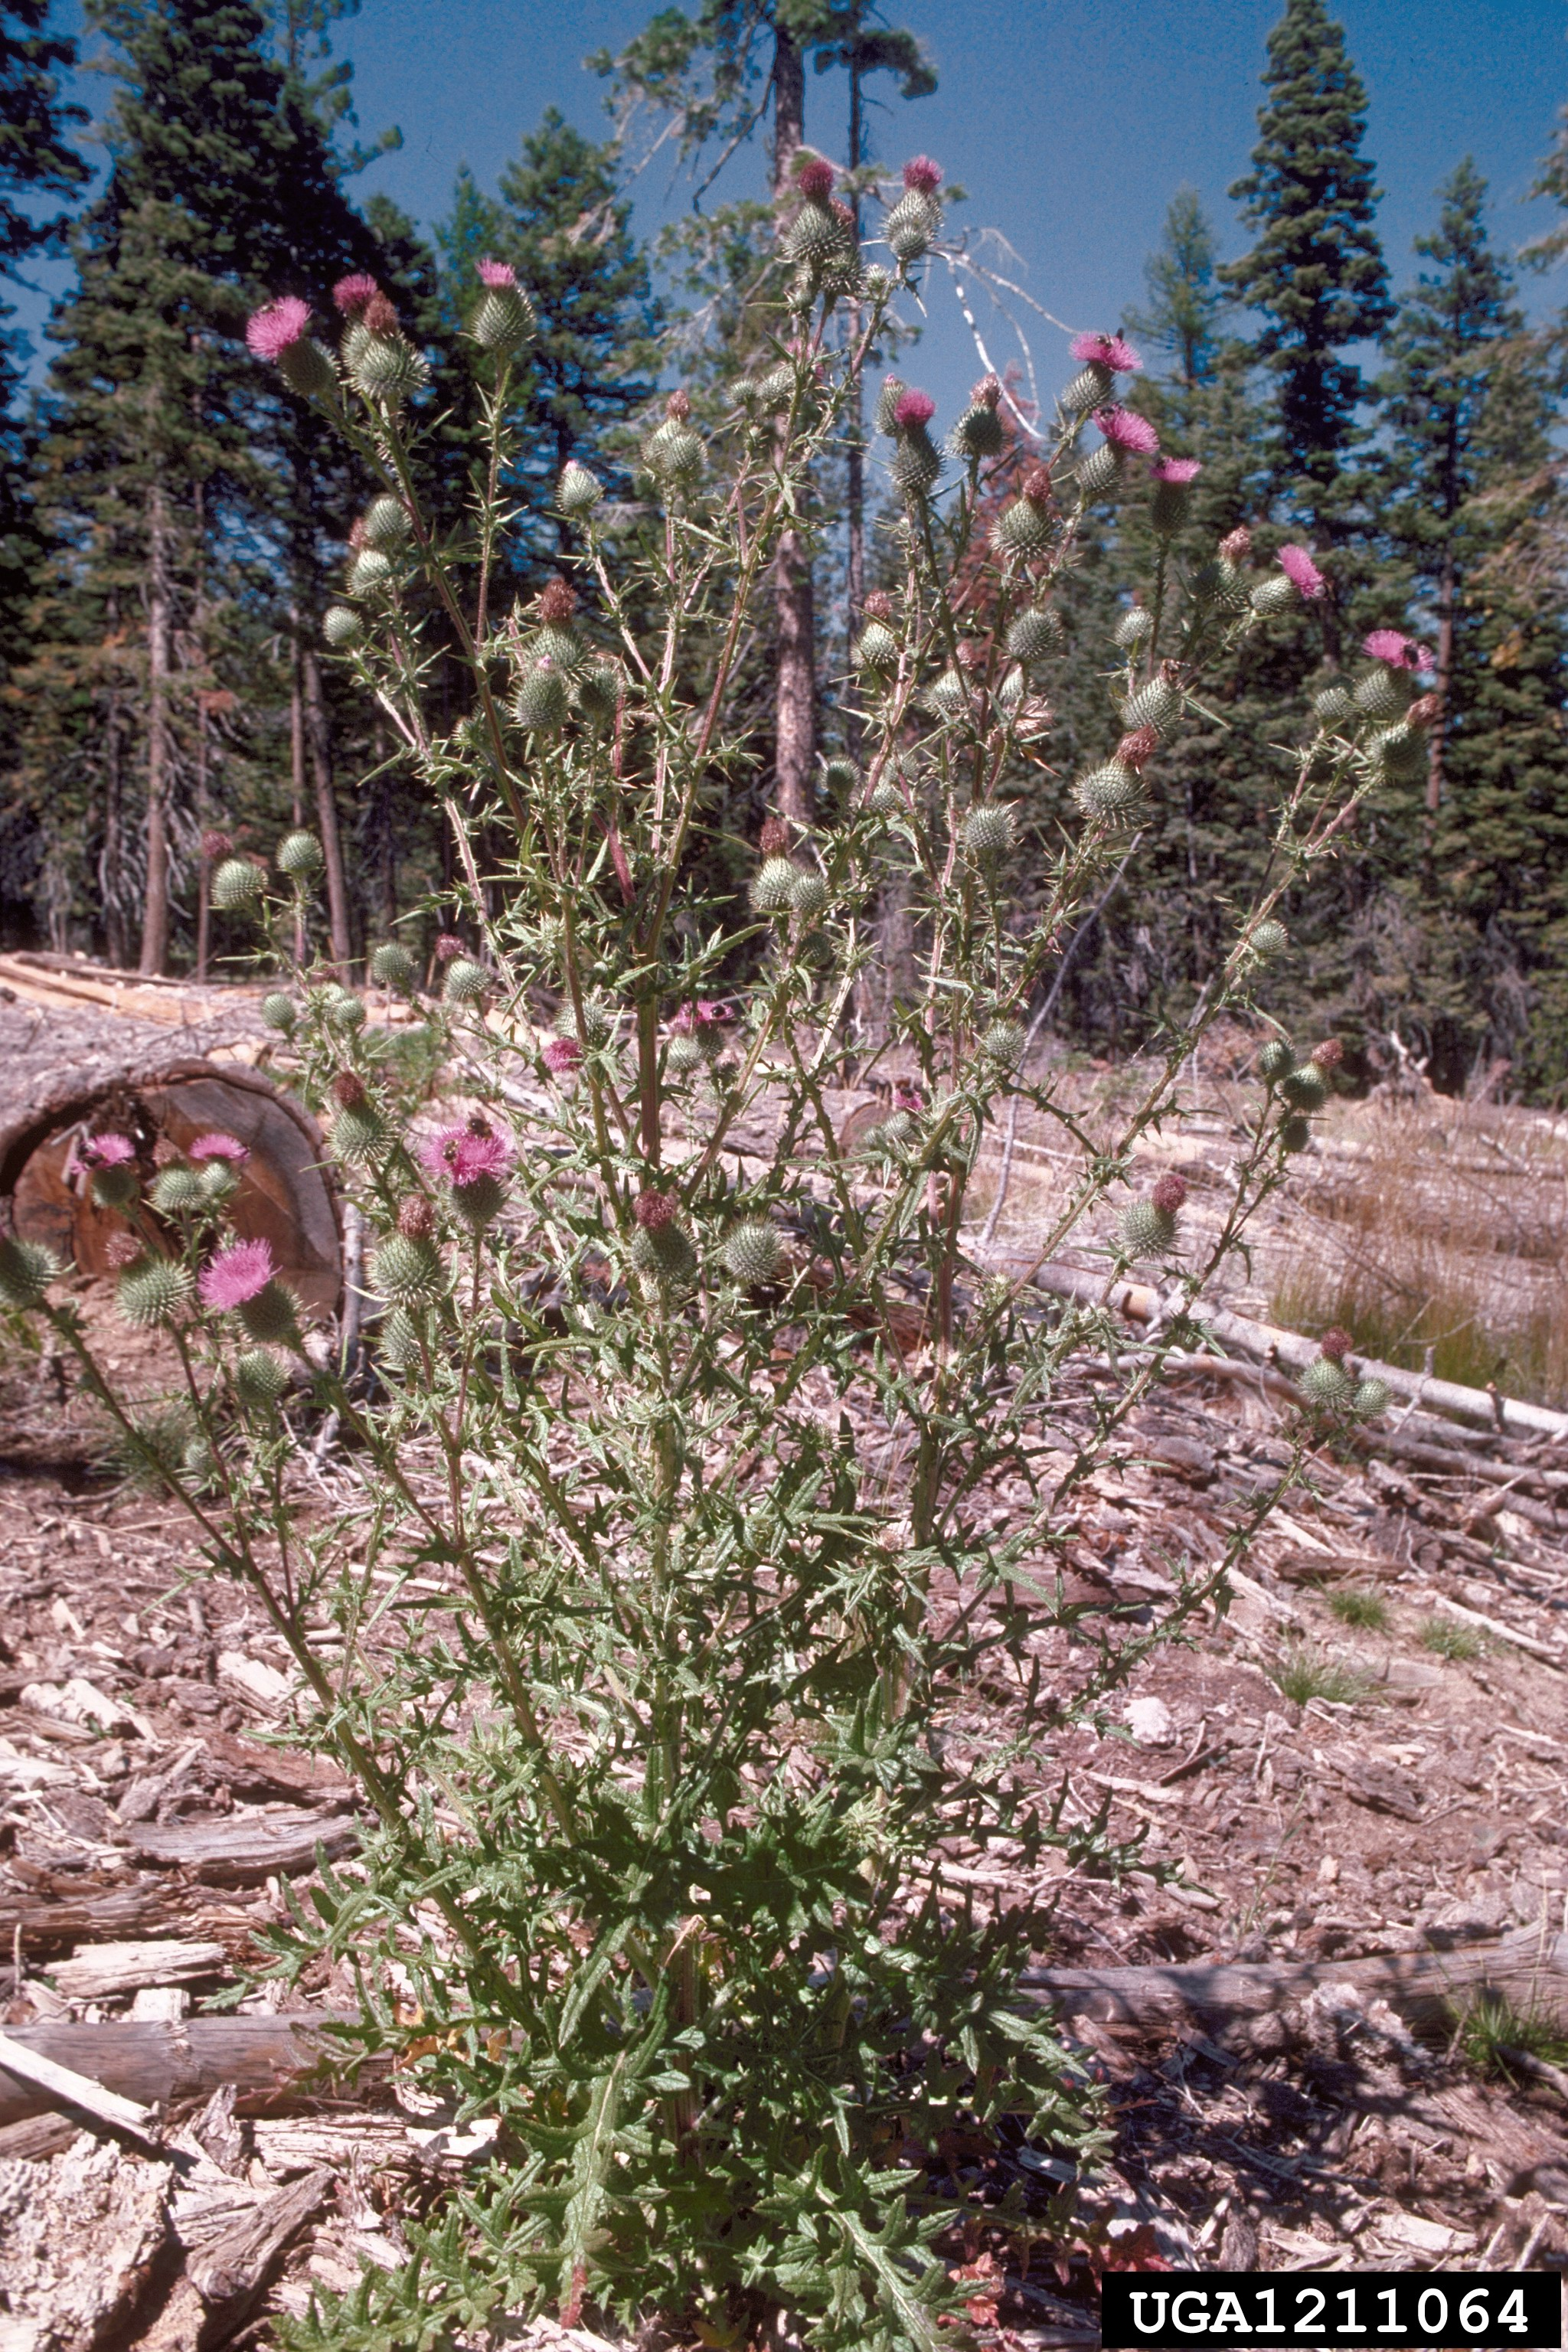thistle: (222, 292, 343, 423), (189, 1256, 324, 1356), (437, 1129, 549, 1244), (1354, 618, 1459, 737), (360, 1202, 460, 1321), (453, 247, 556, 355), (768, 164, 856, 283), (873, 390, 962, 502), (171, 1129, 269, 1223), (1067, 730, 1165, 824), (884, 154, 962, 269), (336, 301, 429, 394), (518, 569, 600, 668), (616, 1193, 707, 1281), (1248, 542, 1325, 646), (1052, 324, 1130, 415), (1137, 450, 1211, 542), (1123, 1169, 1193, 1263), (82, 1141, 164, 1209), (1312, 1318, 1368, 1417), (1083, 397, 1129, 506)
